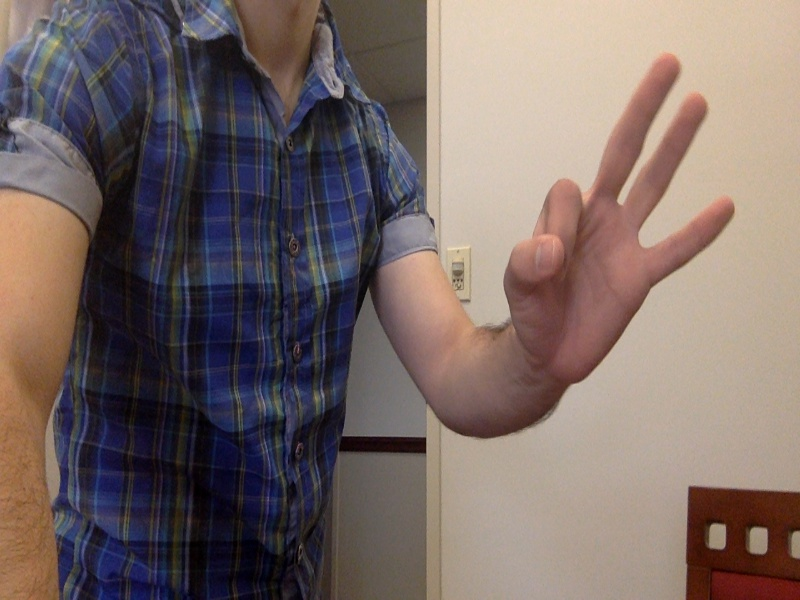3-hand: (501, 53, 741, 375)
